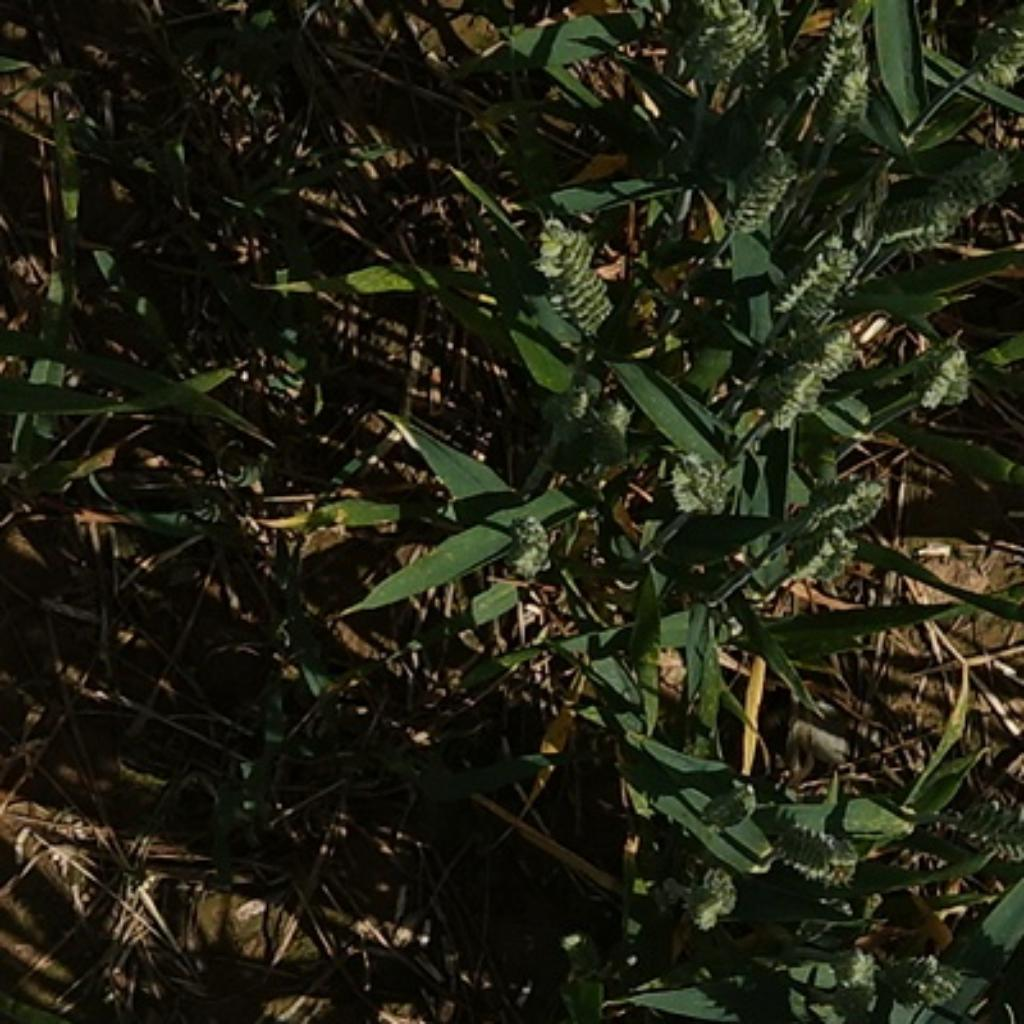0-0: (791, 455, 906, 545), (868, 187, 991, 269), (531, 214, 614, 332), (926, 785, 1024, 867), (717, 141, 801, 235), (775, 238, 867, 320), (657, 442, 742, 519), (903, 330, 980, 412), (757, 322, 867, 378), (686, 2, 762, 81), (765, 805, 841, 880), (819, 17, 880, 107), (670, 857, 744, 931), (757, 353, 816, 445), (496, 504, 563, 581), (945, 140, 1022, 206), (816, 934, 888, 1000), (824, 53, 875, 140), (969, 2, 1023, 84), (785, 535, 867, 586), (896, 954, 957, 1006), (554, 374, 598, 431), (600, 395, 634, 460)
